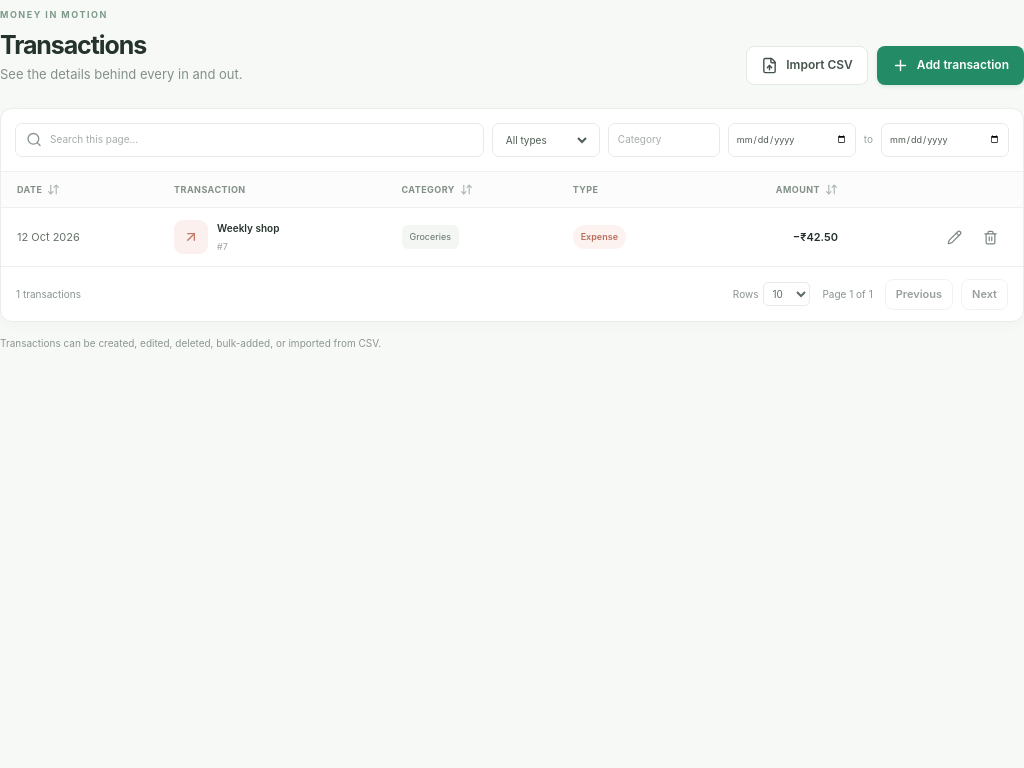
Test: TransactionsPage actions › requires confirmation before deleting and reports a failed delete
Click the button named "Delete Groceries transaction" at (990, 237), box [973, 220, 1007, 254]
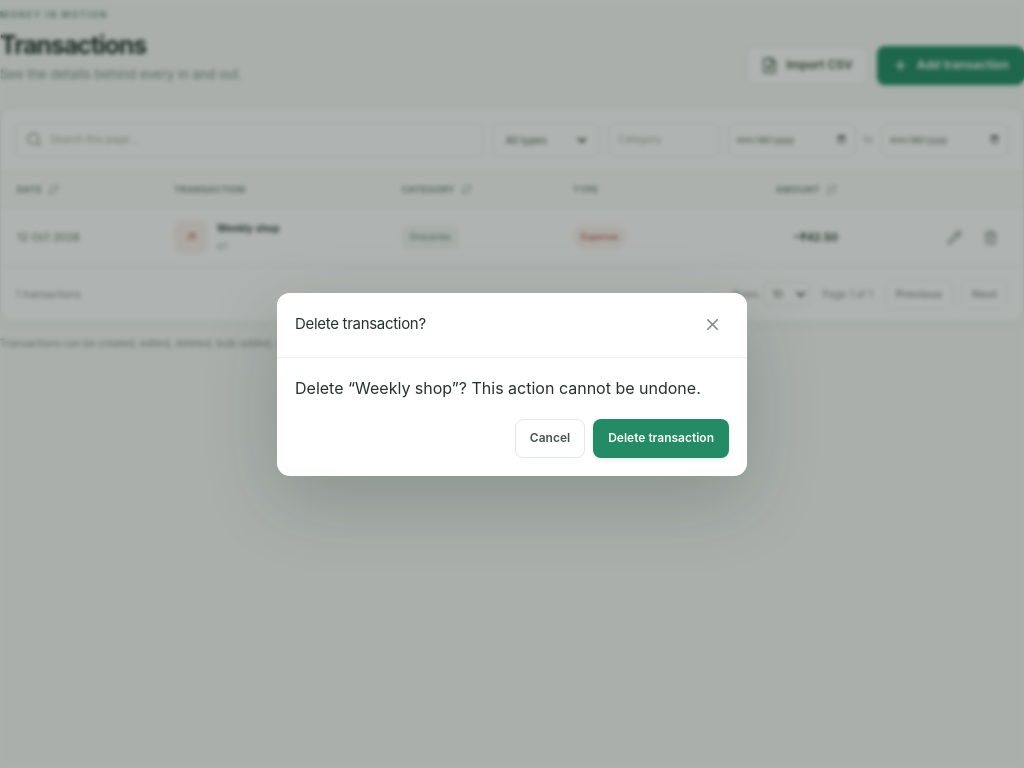
Click the button "Delete transaction" at (661, 438), box [593, 418, 729, 458]
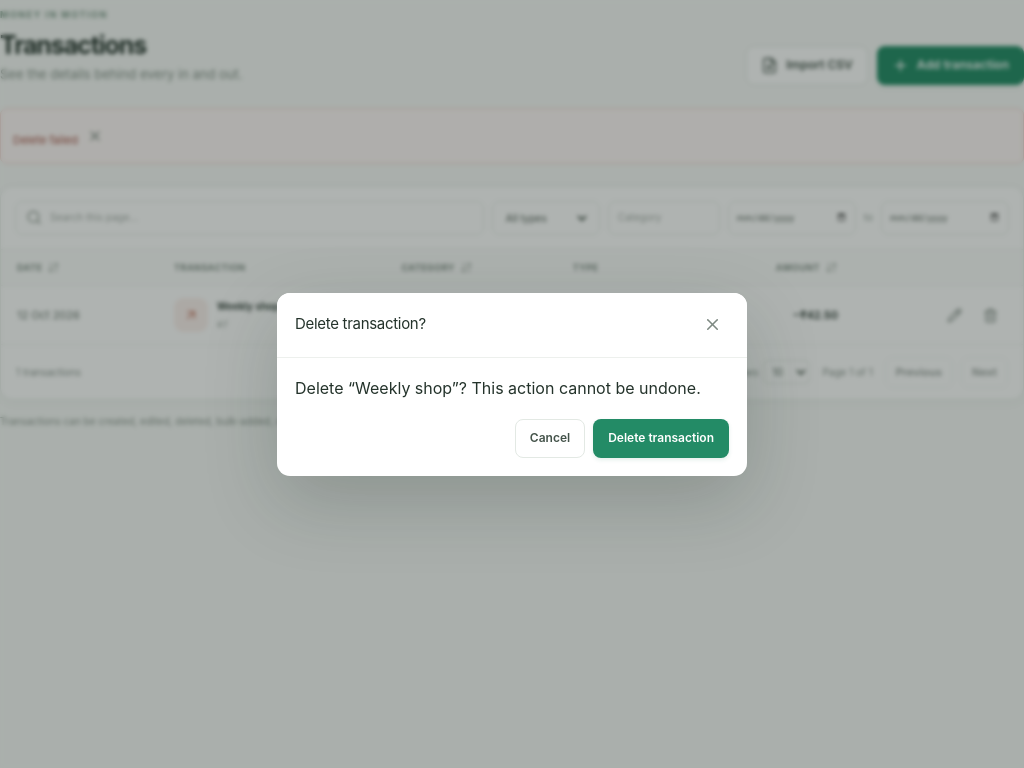
expect the text "Delete failed" is shown: met, box [0, 108, 1023, 164]
